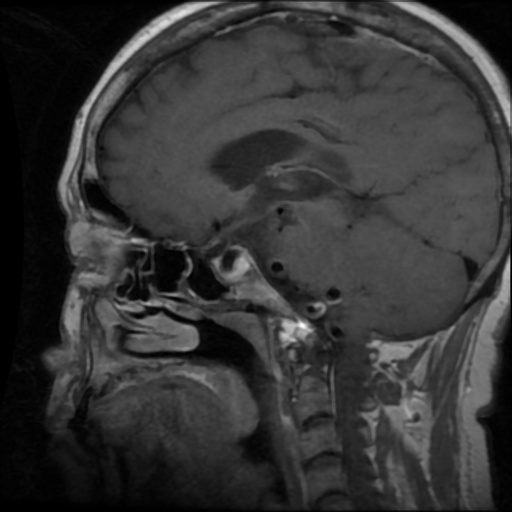pituitary: (211, 243, 251, 285)
